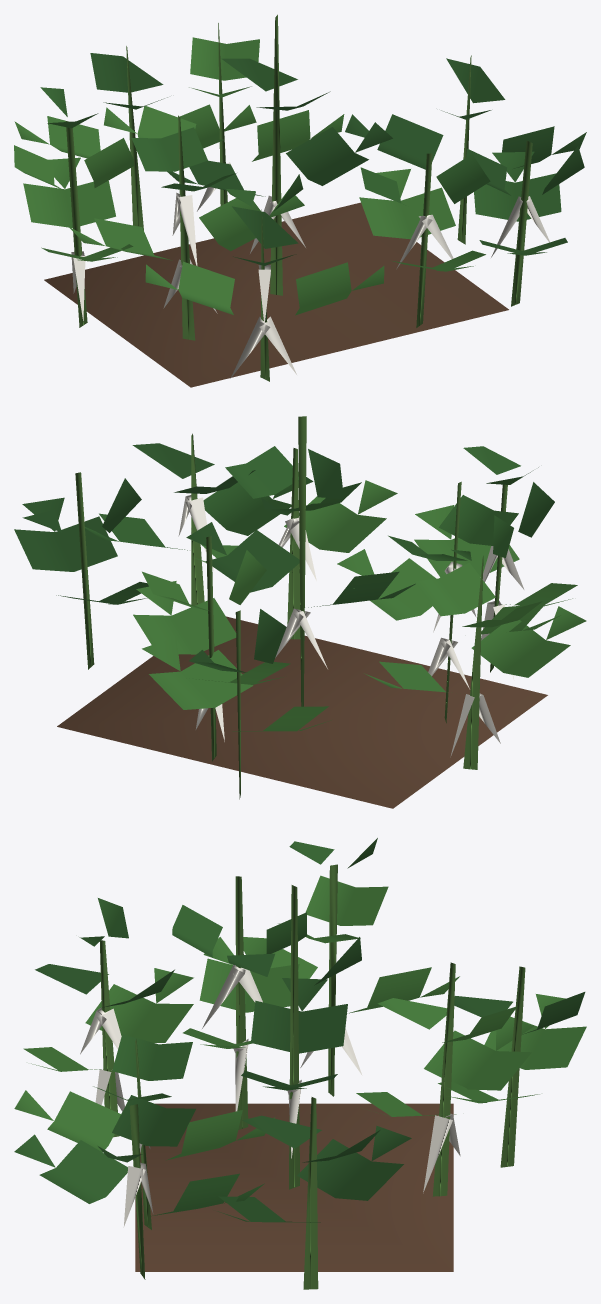
Rendered from nettle-patch-blocky_lod2.glb.
3 renders of one model, top to bottom at view 1: azimuth 30°, elevation 25°; view 2: azimuth 150°, elevation 25°; view 3: azimuth 270°, elevation 25°, orthographic. The views are drawn at different scales.
Parts seen in each view (by area): view 1: nettle-patch; view 2: nettle-patch; view 3: nettle-patch.
Boxes of the visible parts, x1,y1,x2,y2 form: nettle-patch: (14,14,586,387); nettle-patch: (14,416,586,808); nettle-patch: (14,838,586,1289).
Size of the model in its own units: 1.12 by 0.5639 by 0.9691.
